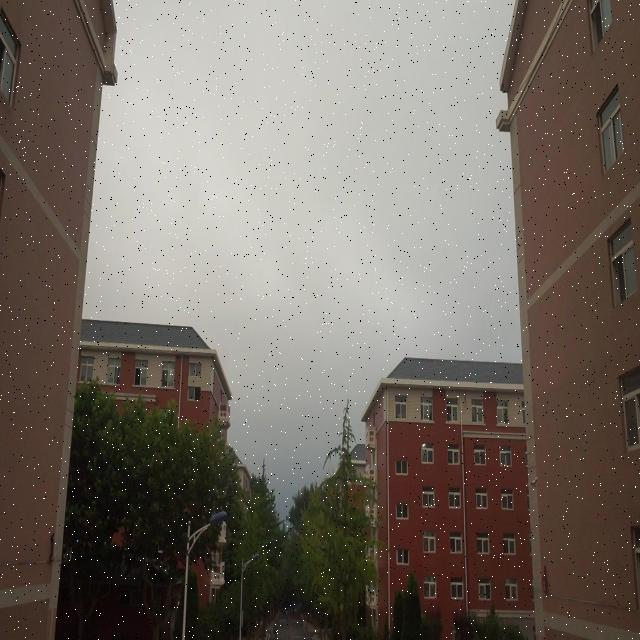UAV: (526, 476, 538, 488)
